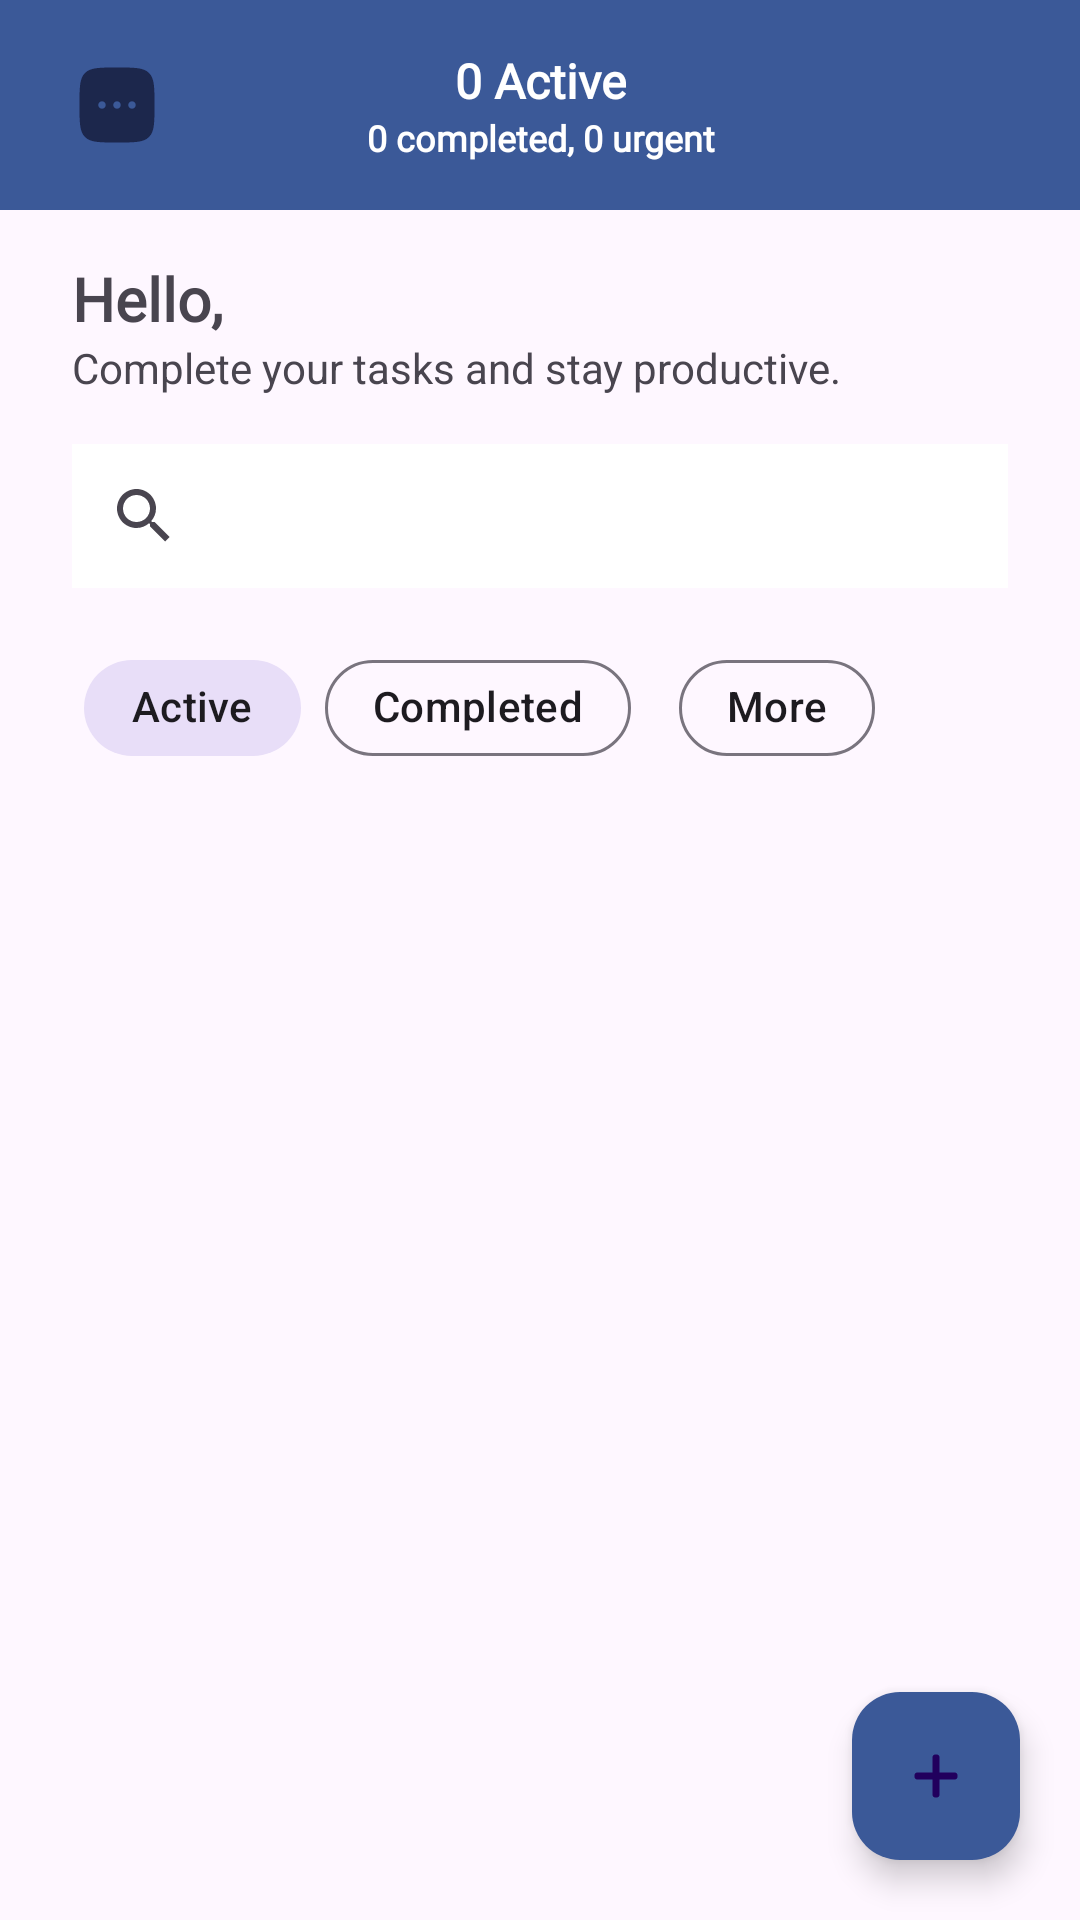

Icons on this 1080px x 1920px Android screen, each with its box as box=[x1, y1, x2, y2]:
menu: box=[79, 67, 155, 143]
plus: box=[852, 1692, 1020, 1860]
